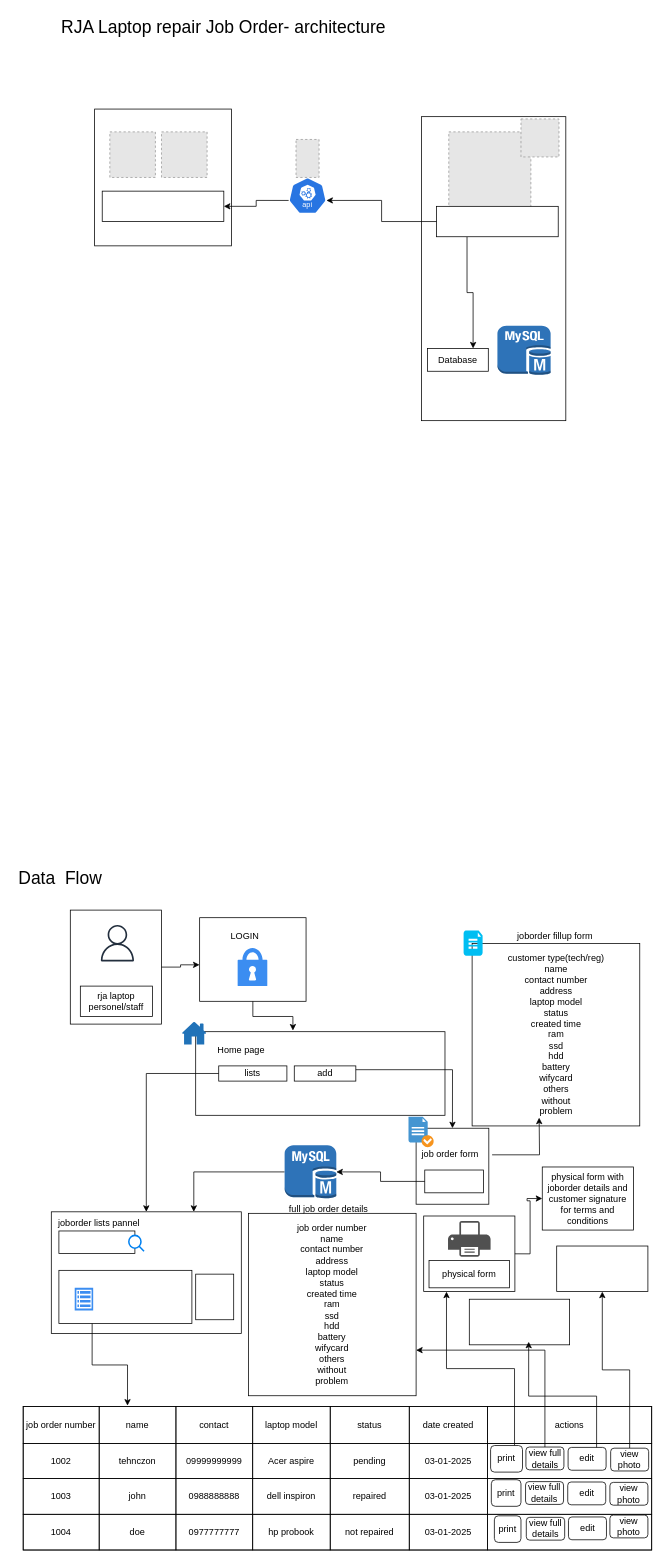
Image size: 665x1563. Some labels were removed from this diagram. Grey dashed boxes stand in for pictures. Each missing label, with the box of its shape:
API service: (436, 206, 558, 237)
list job order: (58, 1270, 192, 1324)
search J.O: (58, 1230, 135, 1254)
sortable: (195, 1273, 234, 1320)
submitBtn: (424, 1169, 483, 1193)
update status: (469, 1298, 570, 1345)
User: (94, 920, 140, 966)
view and upload photos(laptop parts): (556, 1245, 648, 1292)
Web client: (101, 190, 224, 222)
